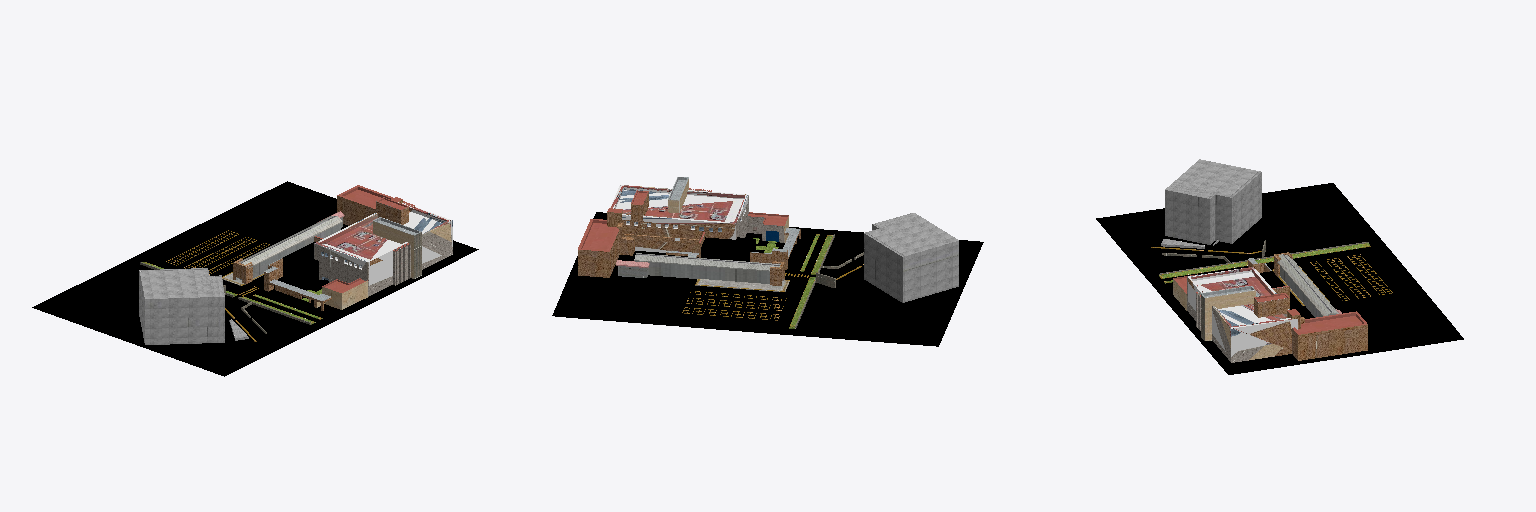
3 views of the same model, side by side, from view 1: azimuth 30°, elevation 25°; view 2: azimuth 150°, elevation 25°; view 3: azimuth 270°, elevation 25° (orthographic).
Parts seen in each view (by area): view 1: pPlane2, pCube165, pCube94, pCube168 polySurface110, pCube102 polySurface79, pCube104, pCube201, polySurface56, pCube95, polySurface68, pCube105, polySurface24 pCube102; view 2: pPlane2, pCube94, pCube165, pCube168 polySurface110, pCube102 polySurface79, pCube201, polySurface56, pCube134, pCube104; view 3: pPlane2, pCube165, pCube94, pCube102 polySurface79, pCube95, pCube168 polySurface110, pCube104, pCube105.
Boxes of the visible parts, box(x1,y1,x2,y2) form: pPlane2: box(32, 181, 478, 376); pCube165: box(314, 203, 452, 296); pCube94: box(139, 268, 213, 344); pCube168 polySurface110: box(235, 216, 342, 282); pCube102 polySurface79: box(337, 185, 414, 225); pCube104: box(373, 217, 421, 278); pCube201: box(283, 242, 318, 284); polySurface56: box(314, 278, 367, 309); pCube95: box(199, 275, 224, 342); polySurface68: box(393, 243, 410, 285); pCube105: box(376, 197, 408, 224); polySurface24 pCube102: box(269, 279, 331, 310); pPlane2: box(552, 212, 983, 346); pCube94: box(864, 216, 958, 302); pCube165: box(610, 185, 748, 252); pCube168 polySurface110: box(634, 253, 783, 283); pCube102 polySurface79: box(578, 208, 622, 277); pCube201: box(701, 237, 755, 261); polySurface56: box(747, 212, 796, 243); pCube134: box(695, 279, 789, 291); pCube104: box(668, 177, 688, 212); pPlane2: box(1096, 183, 1463, 374); pCube165: box(1187, 267, 1297, 362); pCube94: box(1175, 159, 1261, 243); pCube102 polySurface79: box(1287, 309, 1367, 360); pCube95: box(1165, 181, 1218, 244); pCube168 polySurface110: box(1275, 252, 1338, 317); pCube104: box(1201, 286, 1255, 340); pCube105: box(1254, 293, 1289, 317).
Bounding box in the file's own units: 109 × 12.11 × 87.77.
Materials: 57 (19 with a texture image).